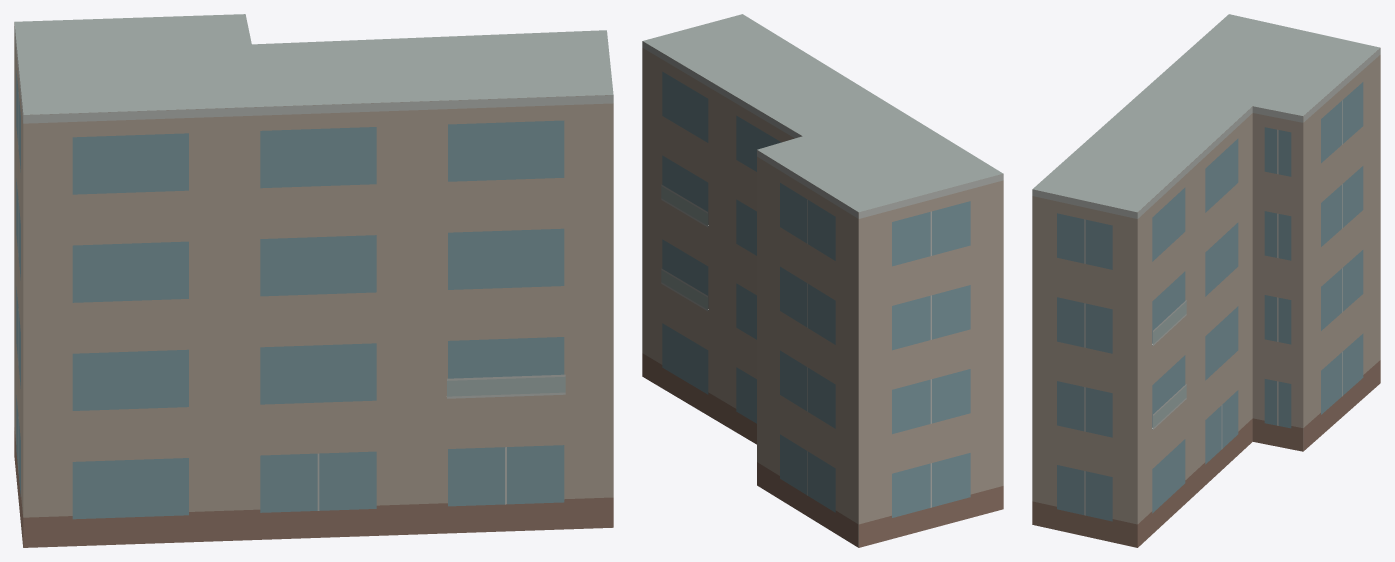
File: survey-upis-32938384.glb
The picture shows the model from 3 angles, left to right: view 1: azimuth 30°, elevation 25°; view 2: azimuth 150°, elevation 25°; view 3: azimuth 270°, elevation 25°; orthographic projection. The views are drawn at different scales.
Visible parts, largest first — view 1: survey-upis-32938384.tmp; view 2: survey-upis-32938384.tmp; view 3: survey-upis-32938384.tmp.
Part boxes in pixels (<box>): survey-upis-32938384.tmp: <box>14,14,613,547</box>; survey-upis-32938384.tmp: <box>642,14,1003,547</box>; survey-upis-32938384.tmp: <box>1032,14,1380,547</box>.
Size of the model in its own units: 15.48 by 12.2 by 11.49.
